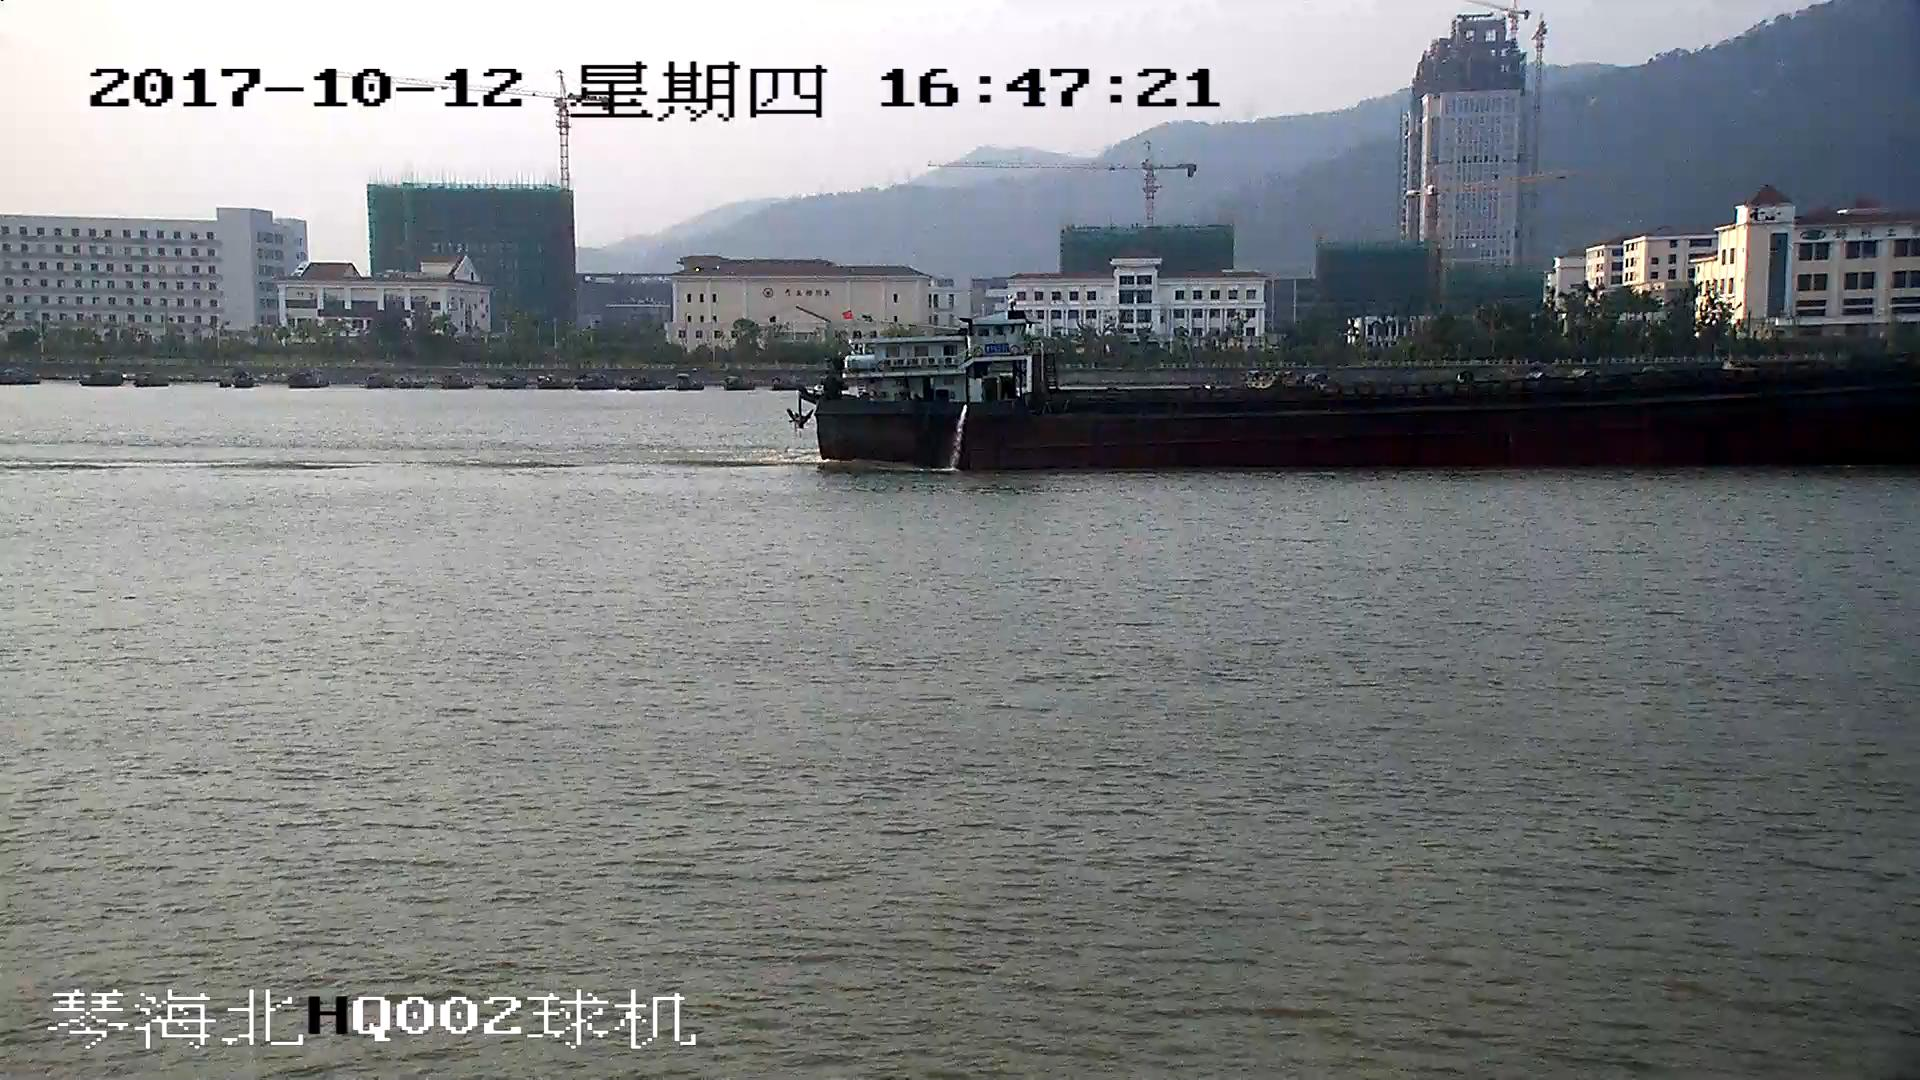bulk cargo carrier: (797, 314, 1920, 472)
